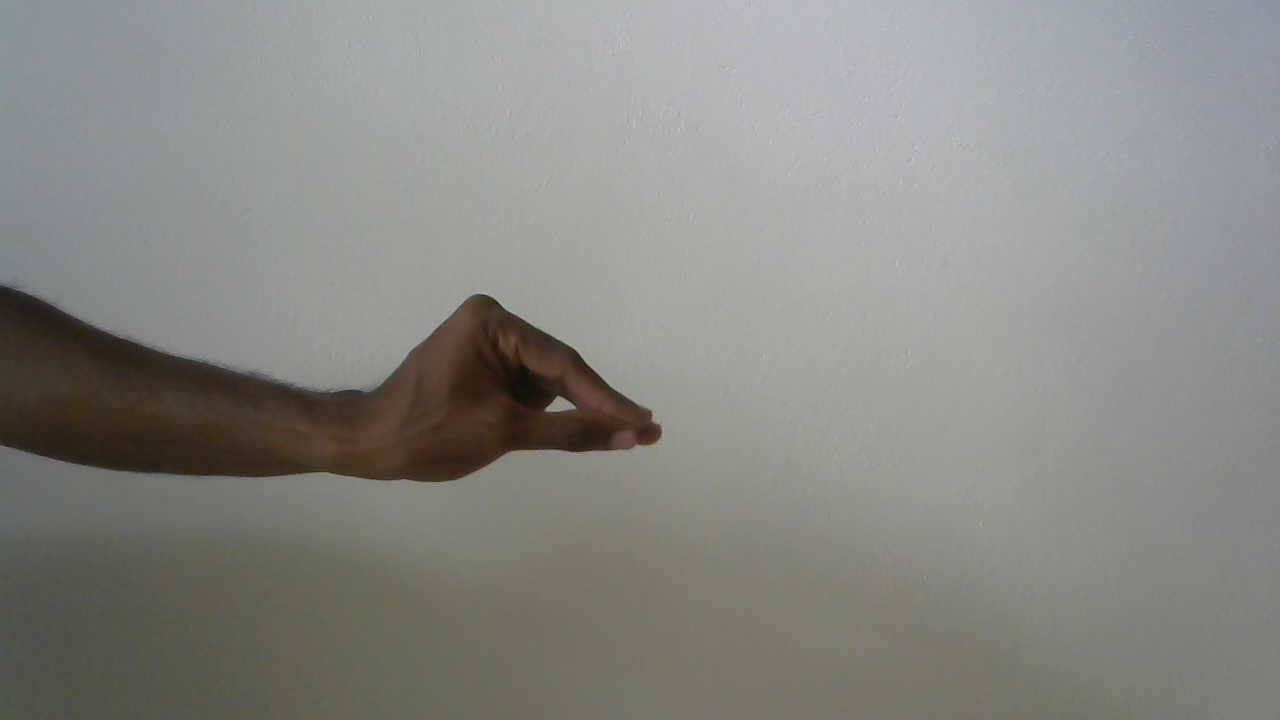no: (347, 284, 672, 520)
